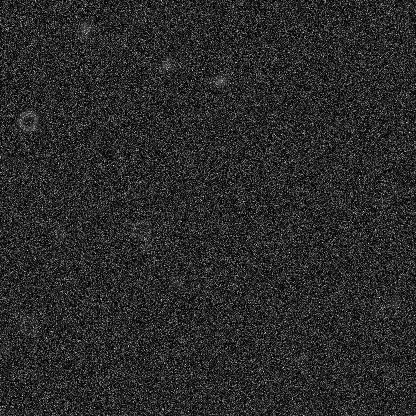Ring: (130, 217, 154, 241), (16, 108, 40, 132), (16, 313, 40, 337)
Spot: (272, 269, 288, 285), (158, 56, 174, 72), (212, 72, 228, 88), (386, 295, 402, 311), (292, 350, 308, 366), (166, 273, 182, 289), (373, 195, 389, 211), (137, 239, 153, 255), (51, 227, 67, 243), (76, 21, 92, 37)
